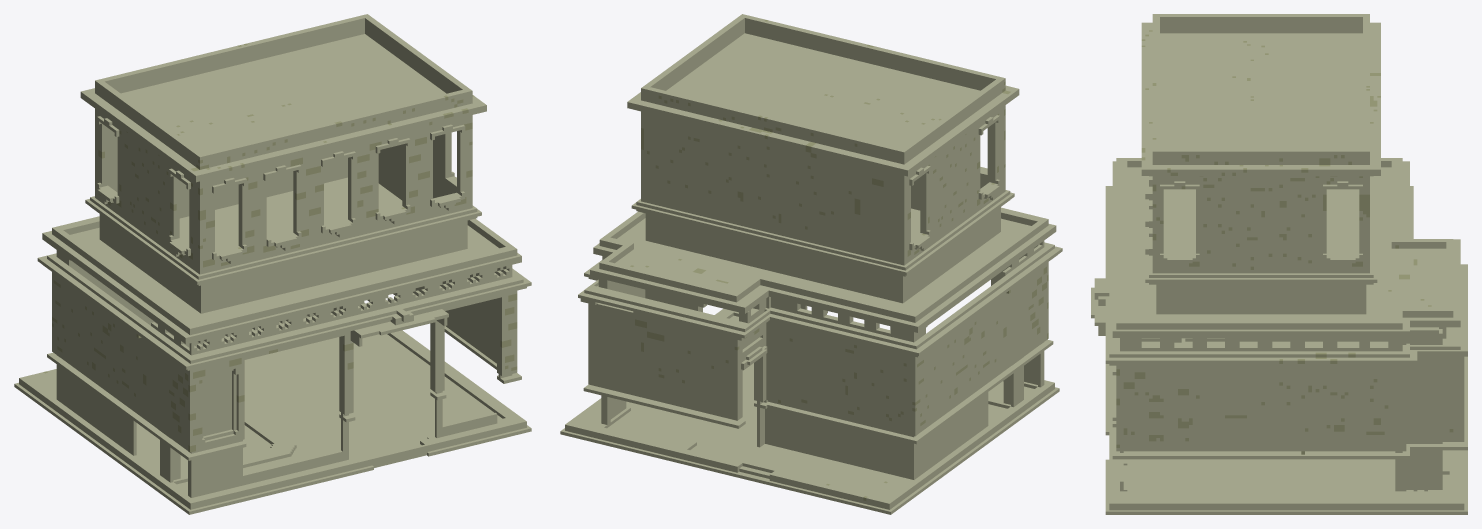
File: building only 2.obj
3 views of the same model, side by side, from view 1: azimuth 30°, elevation 25°; view 2: azimuth 150°, elevation 25°; view 3: azimuth 270°, elevation 25° (orthographic). The views are drawn at different scales.
Visible parts, largest first — view 1: building only 2; view 2: building only 2; view 3: building only 2.
Boxes of the visible parts, box(x1,y1,x2,y2) form: building only 2: box(14, 14, 531, 514); building only 2: box(560, 14, 1062, 514); building only 2: box(1091, 14, 1467, 514).
Size of the model in its own units: 114 by 105 by 104.
Materials: 1 (1 with a texture image).
